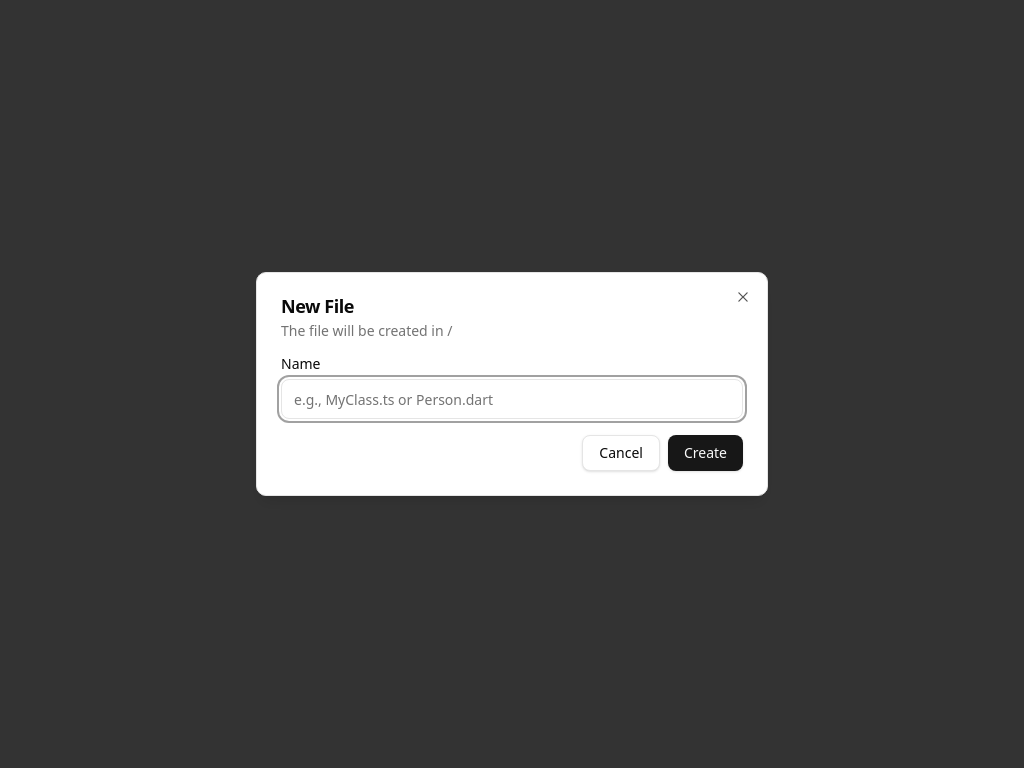
Test: CreateDialog - File Extension Validation › Does NOT auto-add .ts extension › does not auto-add .ts to filename without extension
Type "MyClass" into the field at (512, 399), box [281,379,743,419]
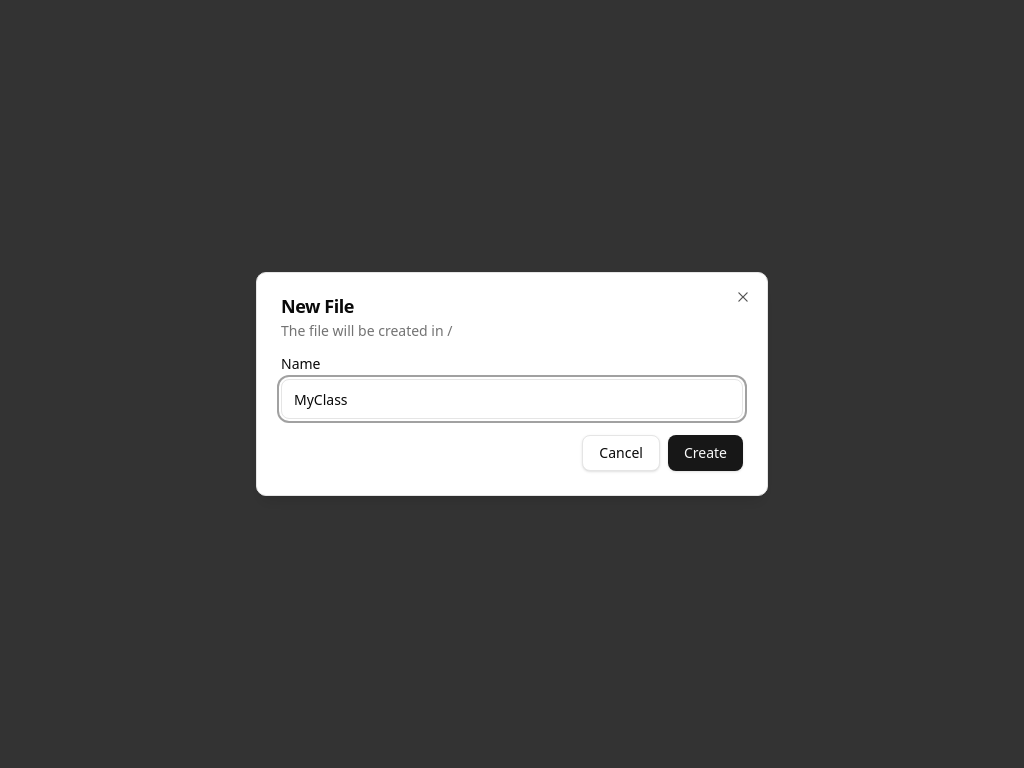
Click the button "Create" at (705, 453), box [668,435,743,471]
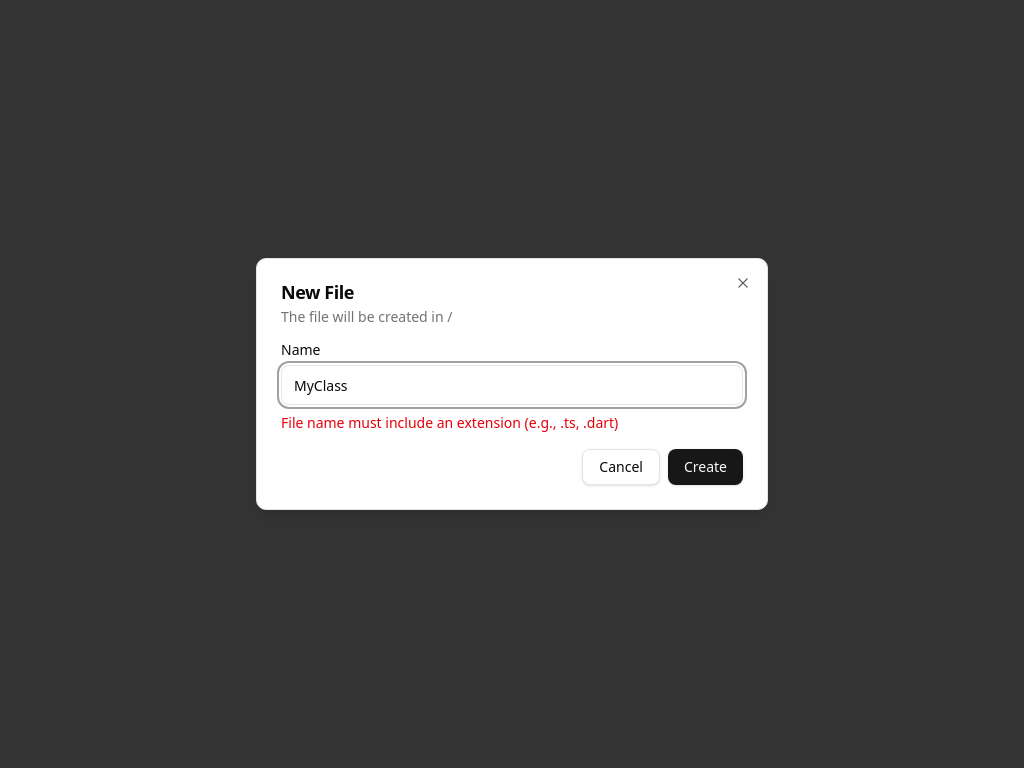
Now the message "File name must include an extension (e.g., .ts, .dart)" is shown, box [281,413,618,432]
